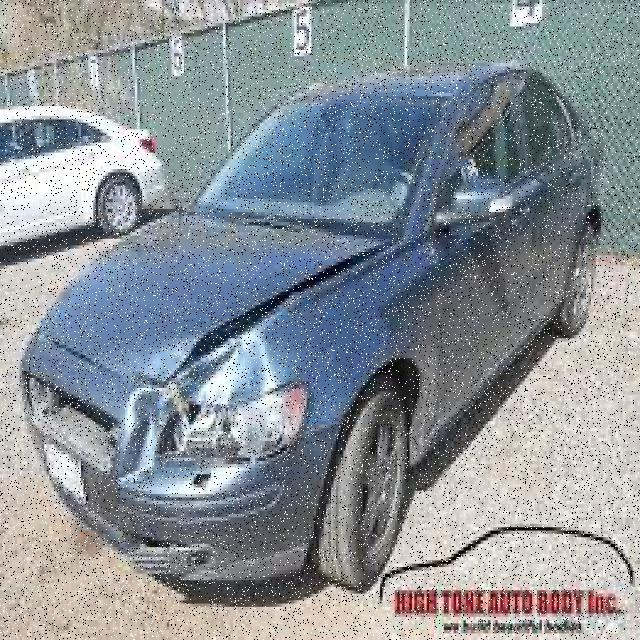fender-dent: (199, 301, 444, 460)
